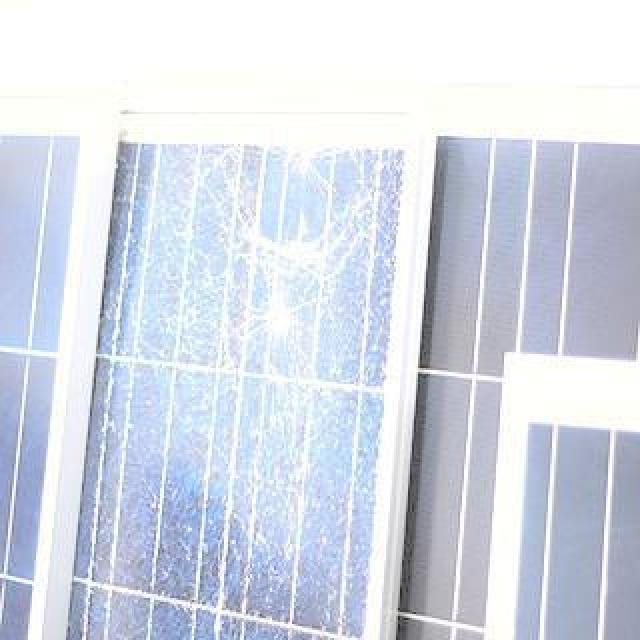cracked: (80, 114, 406, 640)
